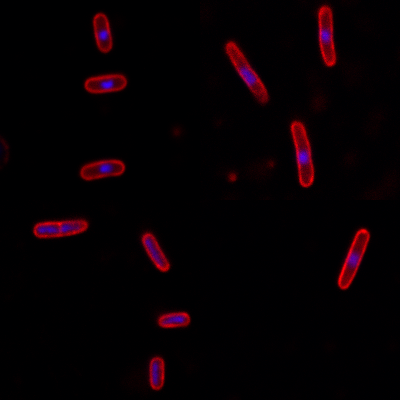CAM: (82, 72, 127, 94), (78, 159, 125, 180), (91, 12, 114, 54)
Nalidixate: (335, 228, 373, 291), (288, 120, 315, 189), (317, 4, 338, 69)
Oblique: (224, 40, 270, 105)
Rifampicin: (139, 232, 171, 272), (31, 218, 90, 239), (156, 309, 193, 330), (148, 355, 166, 391)
Vesicle: (226, 168, 238, 183), (264, 157, 277, 170)
